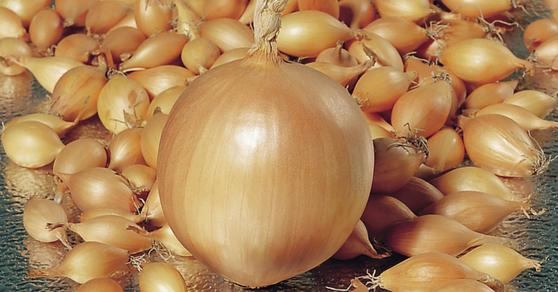onion: (458, 106, 551, 179), (54, 168, 150, 218), (41, 57, 112, 120), (392, 72, 452, 134)
